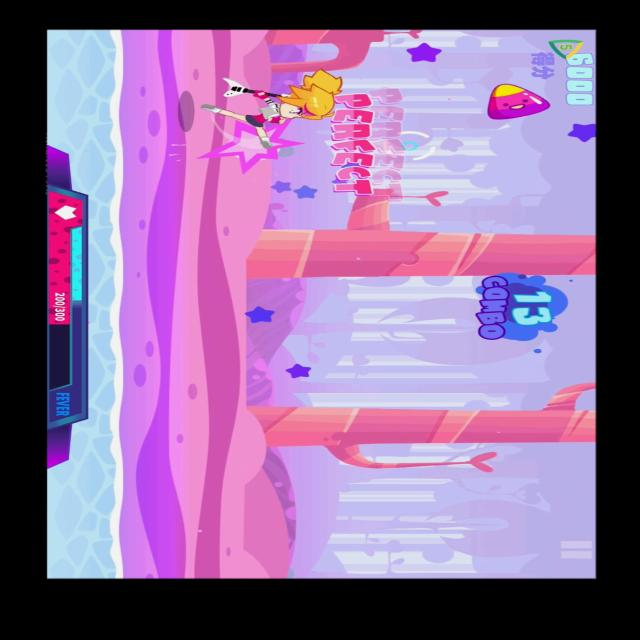Ground Monster - Red Bullet: (472, 82, 552, 132)
